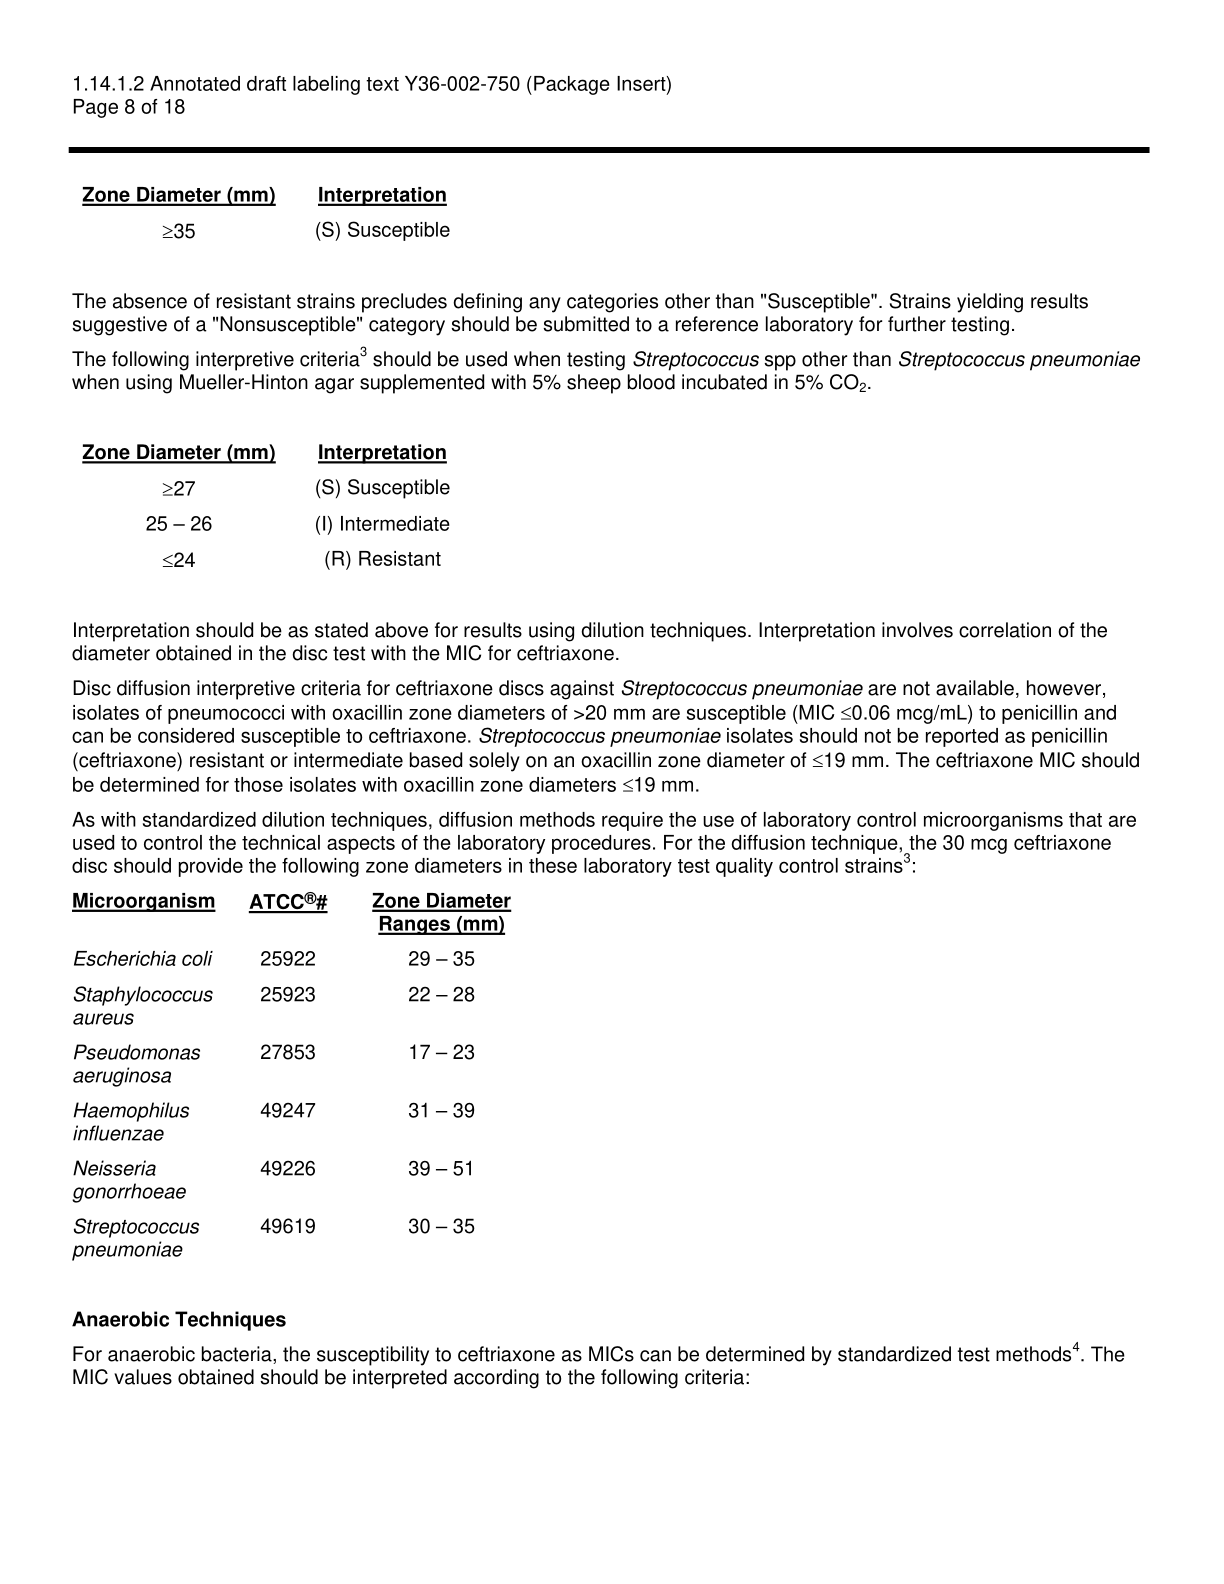nolines: (60, 879, 521, 1270), (73, 429, 458, 579), (75, 174, 463, 257)
